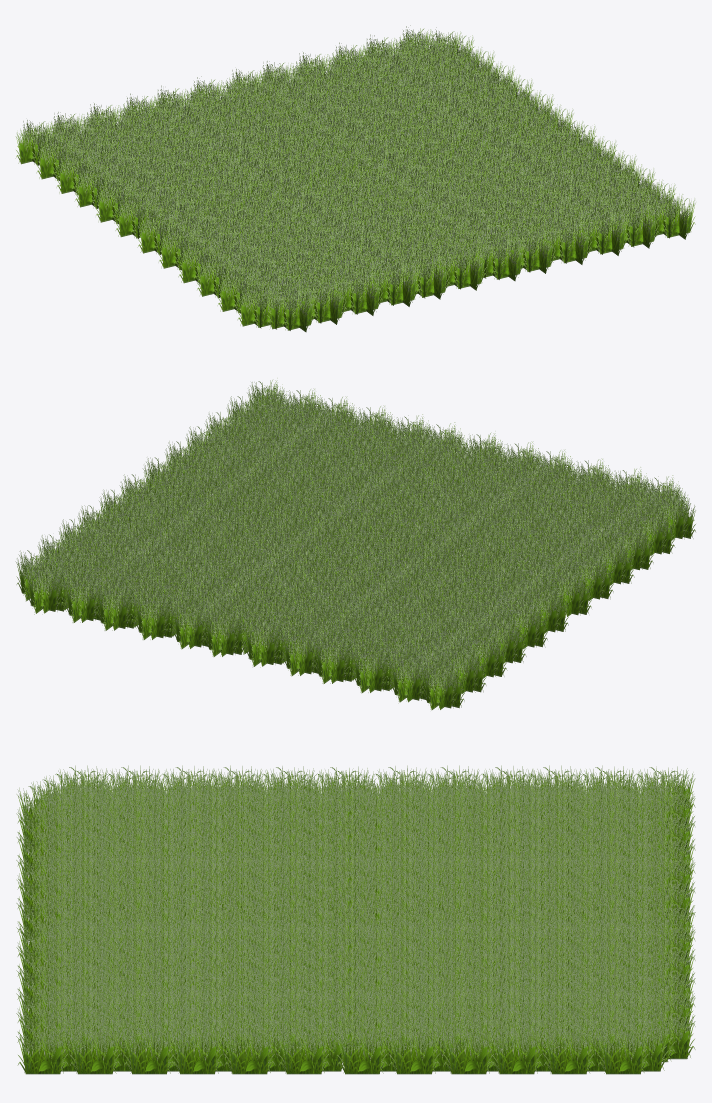
The model's file is field.glb.
The picture shows the model from 3 angles, top to bottom: view 1: azimuth 30°, elevation 25°; view 2: azimuth 150°, elevation 25°; view 3: azimuth 270°, elevation 25°; orthographic projection. The views are drawn at different scales.
Parts seen in each view (by area): view 1: 78f67a44e13965ae3008bbb284401925.000_78f67a44e13965ae3008bbb; view 2: 78f67a44e13965ae3008bbb284401925.000_78f67a44e13965ae3008bbb; view 3: 78f67a44e13965ae3008bbb284401925.000_78f67a44e13965ae3008bbb.
Part boxes in pixels (x1,y1,x2,y2): 78f67a44e13965ae3008bbb284401925.000_78f67a44e13965ae3008bbb: (15, 25, 695, 332); 78f67a44e13965ae3008bbb284401925.000_78f67a44e13965ae3008bbb: (15, 378, 695, 710); 78f67a44e13965ae3008bbb284401925.000_78f67a44e13965ae3008bbb: (16, 765, 695, 1074).
Size of the model in its own units: 16.35 by 1.58 by 16.56.
1 material, 1 textured.
